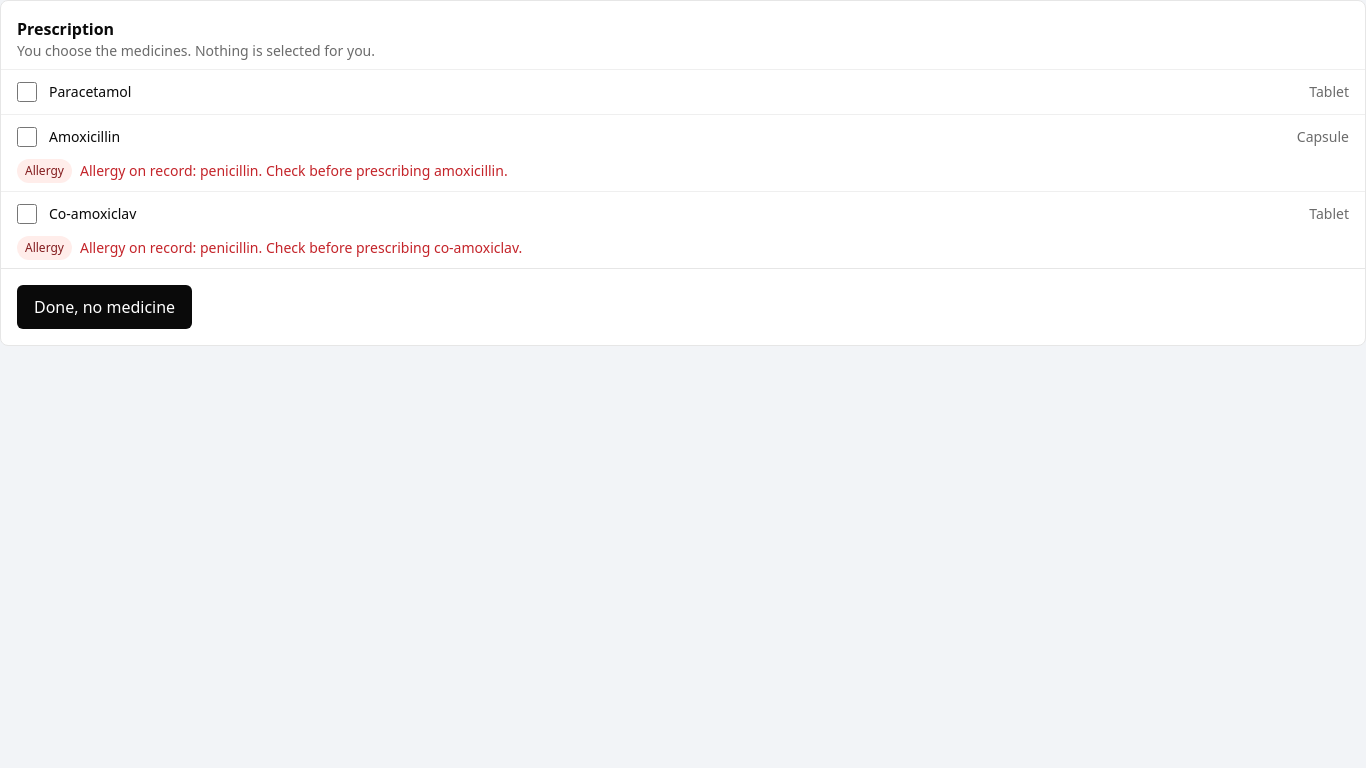
the picker › prefills a selected row, and refuses days outside 1 to 365
expect the checkbox with test id "drug-DR-PARA" is shown: met, box [17, 82, 37, 102]
Click the checkbox with test id "drug-DR-AMOX". click: (27,137)
box: [17, 127, 37, 147]
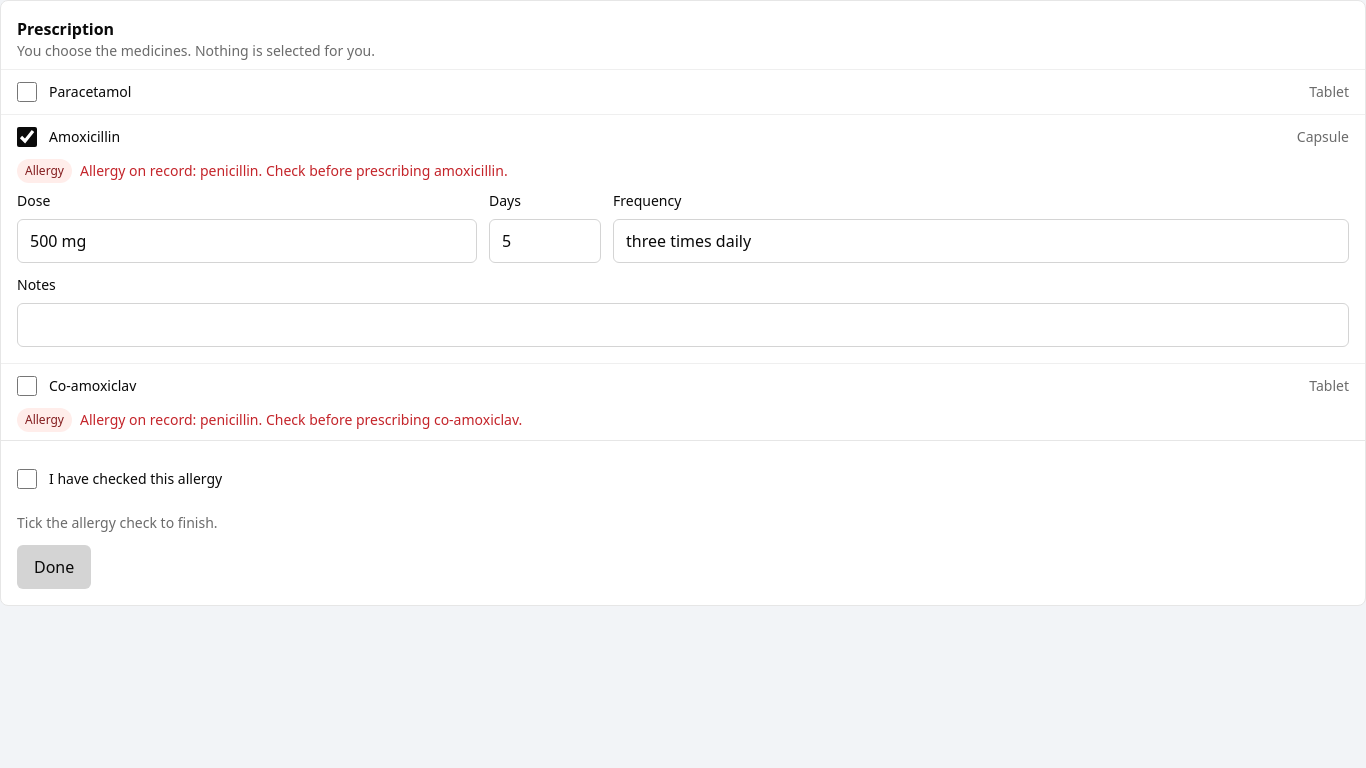
expect the field with test id "rx-dose-DR-AMOX" holds "500 mg": met, box [17, 219, 477, 263]
expect the field with test id "rx-frequency-DR-AMOX" holds "three times daily": met, box [613, 219, 1349, 263]
expect the field with test id "rx-days-DR-AMOX" holds "5": met, box [489, 219, 601, 263]
Click the checkbox with test id "ack-allergy". click: (27,479)
box: [17, 469, 37, 489]
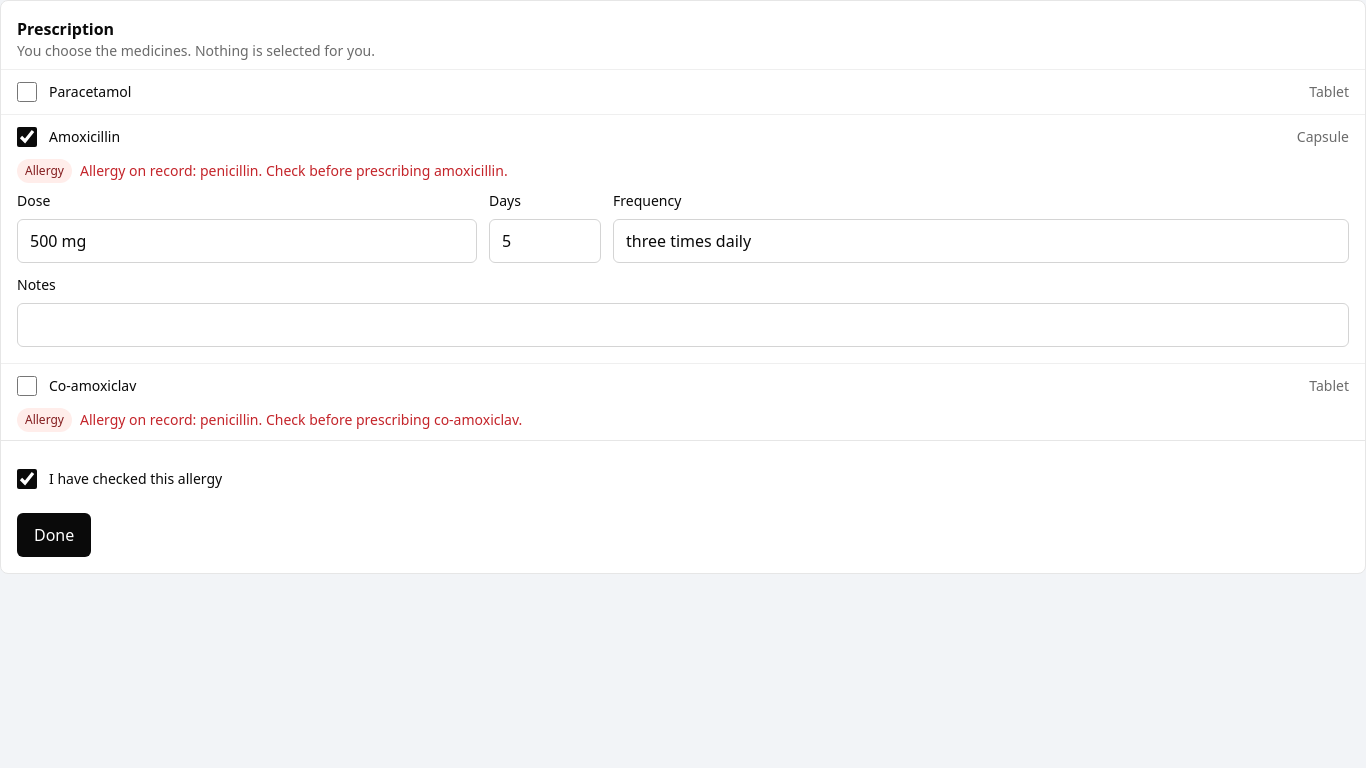
expect the button with test id "consult-done" is enabled: met, box [17, 513, 91, 557]
Replace the text in the field with test id "rx-days-DR-AMOX" with "366". click: (545,241)
box: [489, 219, 601, 263]
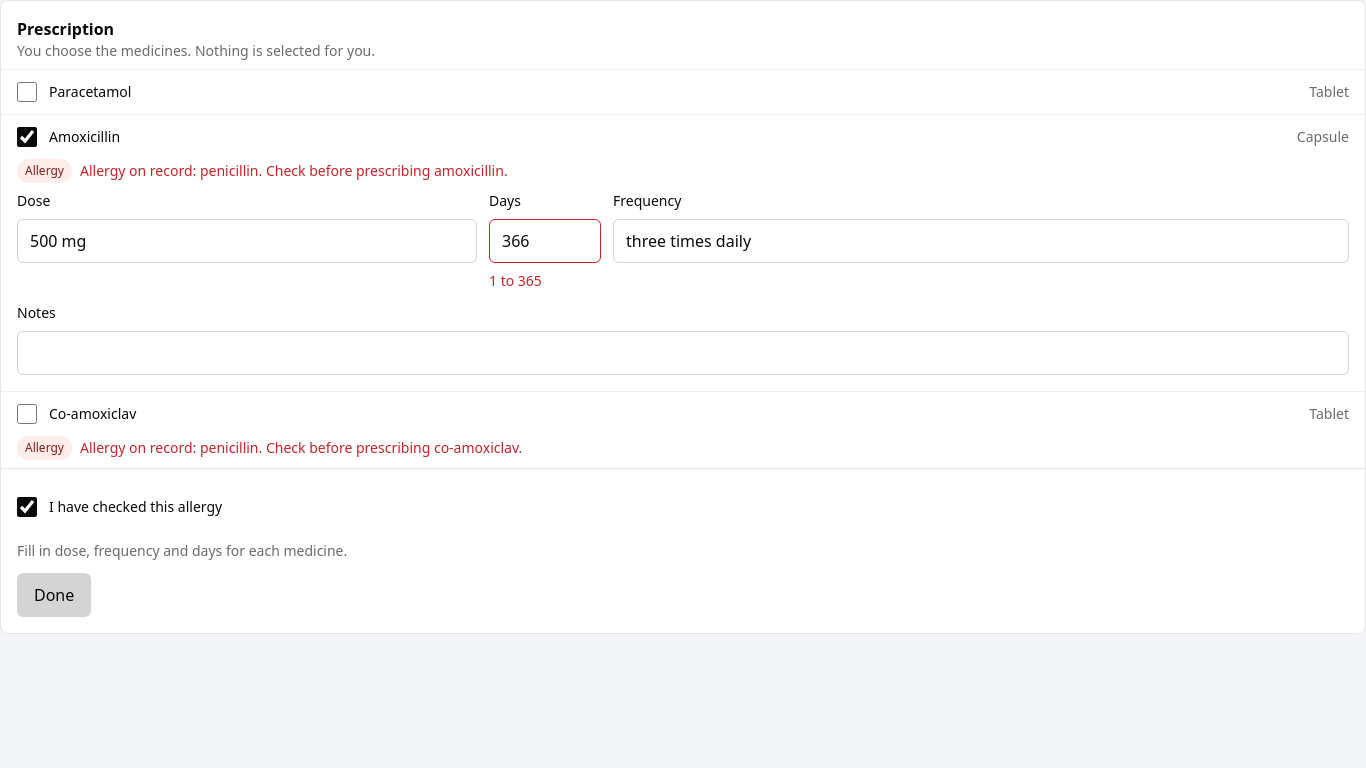
expect the button with test id "consult-done" is disabled: met, box [17, 573, 91, 617]
Replace the text in the field with test id "rx-days-DR-AMOX" with "30". click: (545,241)
box: [489, 219, 601, 263]
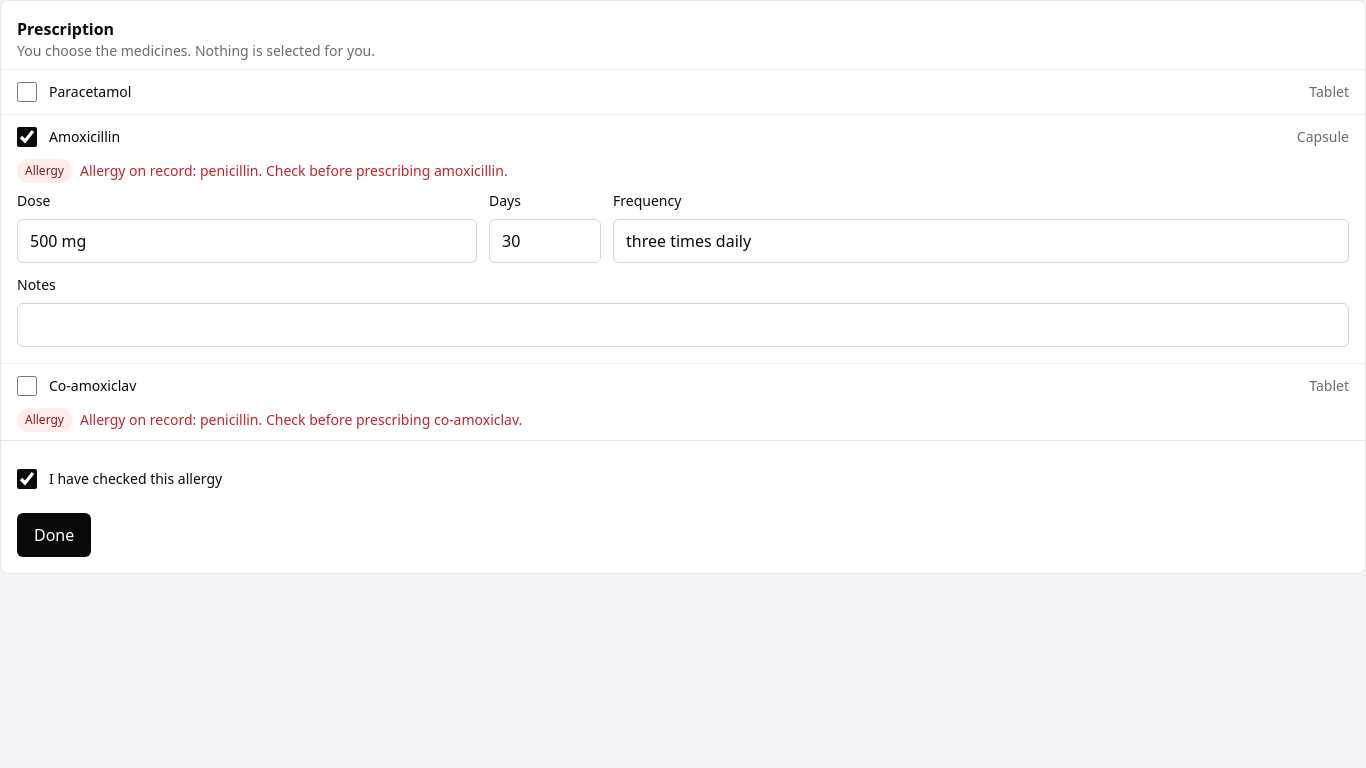
expect the button with test id "consult-done" is enabled: met, box [17, 513, 91, 557]
